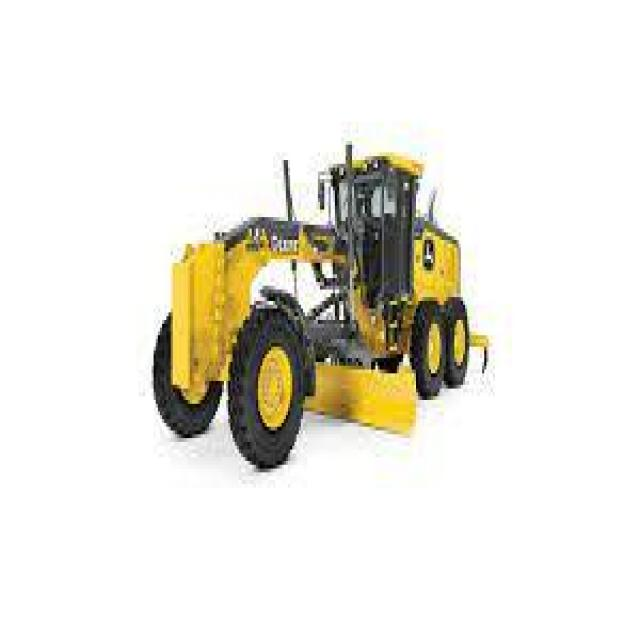Grader: (136, 126, 504, 476)
